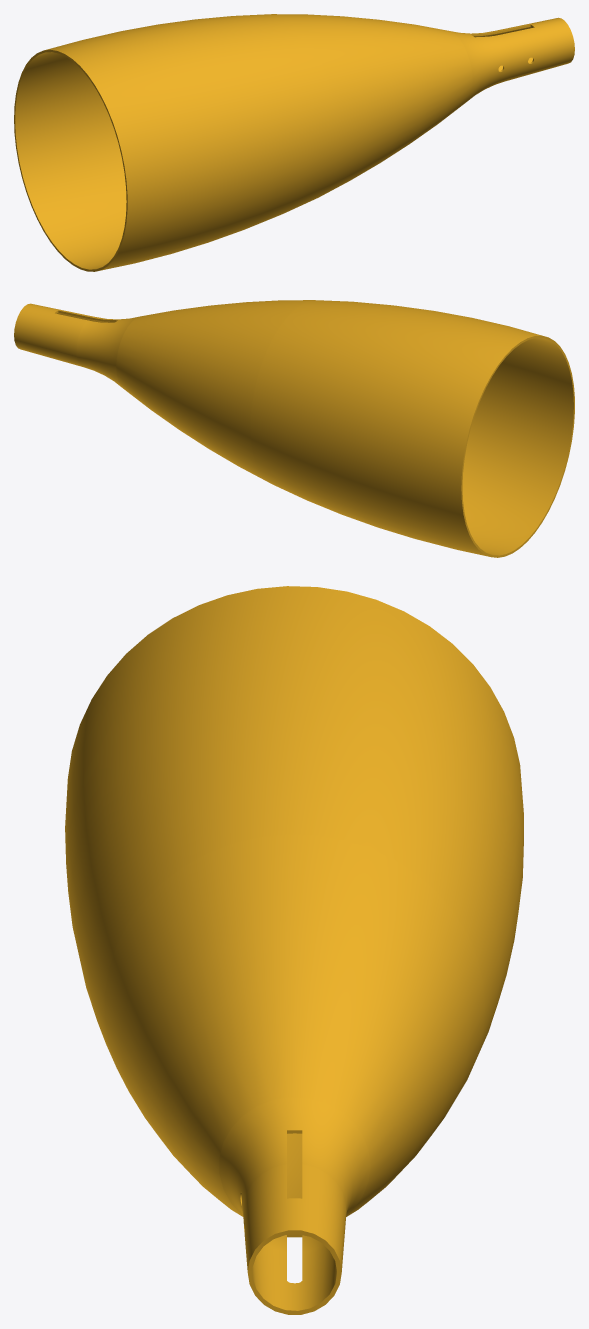
The model's file is aft_fairing_visual.obj.
The picture shows the model from 3 angles, top to bottom: view 1: azimuth 30°, elevation 25°; view 2: azimuth 150°, elevation 25°; view 3: azimuth 270°, elevation 25°; orthographic projection. The views are drawn at different scales.
Visible parts, largest first — view 1: aft fairing; view 2: aft fairing; view 3: aft fairing.
Boxes of the visible parts, x1=… form: aft fairing: x1=14, y1=14, x2=574, y2=271; aft fairing: x1=14, y1=300, x2=574, y2=557; aft fairing: x1=65, y1=586, x2=523, y2=1314.
Size of the model in its own units: 51.56 by 20.82 by 20.81.
